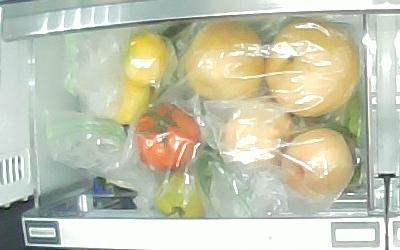peach_vinyl: (282, 127, 357, 202), (220, 102, 292, 167)
pear_vinyl: (264, 17, 361, 117), (185, 19, 263, 100)
tangerine_vinyl: (122, 32, 169, 84), (108, 78, 150, 124)
tomato_vinyl: (135, 104, 201, 173), (154, 173, 205, 218)
